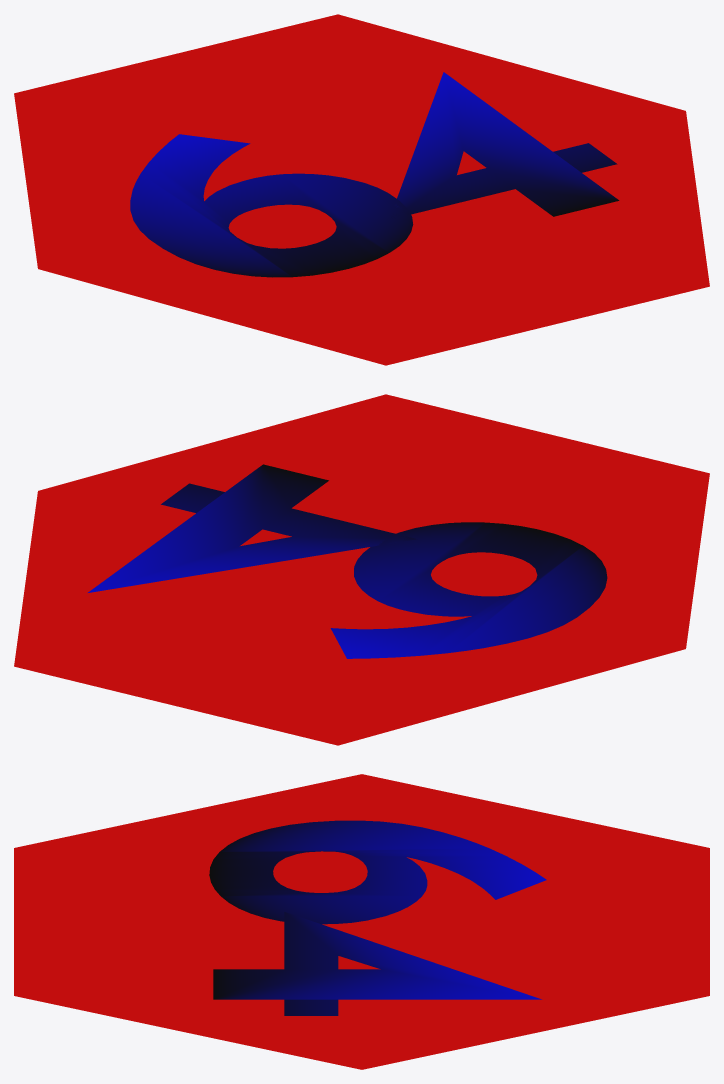
Rendered from SM_Number_64.fbx.
3 renders of one model, top to bottom at view 1: azimuth 30°, elevation 25°; view 2: azimuth 150°, elevation 25°; view 3: azimuth 270°, elevation 25°, orthographic. The views are drawn at different scales.
Visible parts, largest first — view 1: FBX_OUT; view 2: FBX_OUT; view 3: FBX_OUT.
Boxes of the visible parts, x1,y1,x2,y2 form: FBX_OUT: (14, 14, 709, 365); FBX_OUT: (14, 394, 709, 745); FBX_OUT: (14, 774, 709, 1069).
Bounding box in the file's own units: 50 × 0.2917 × 49.71.
